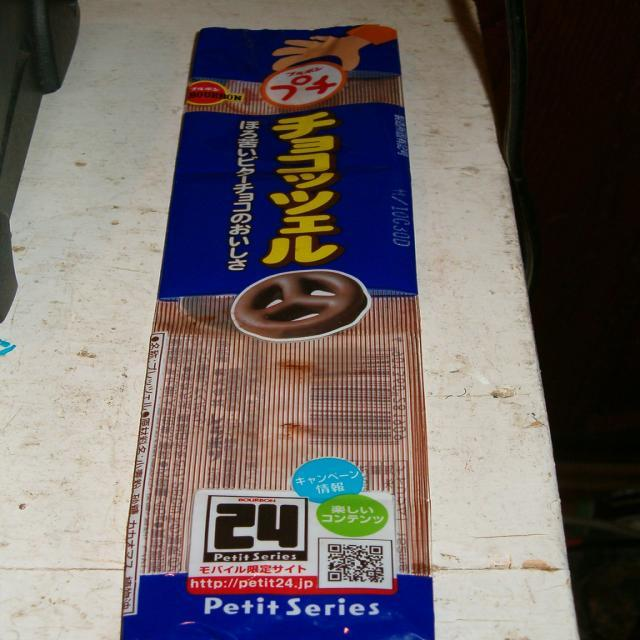qr-code: (328, 544, 383, 582)
